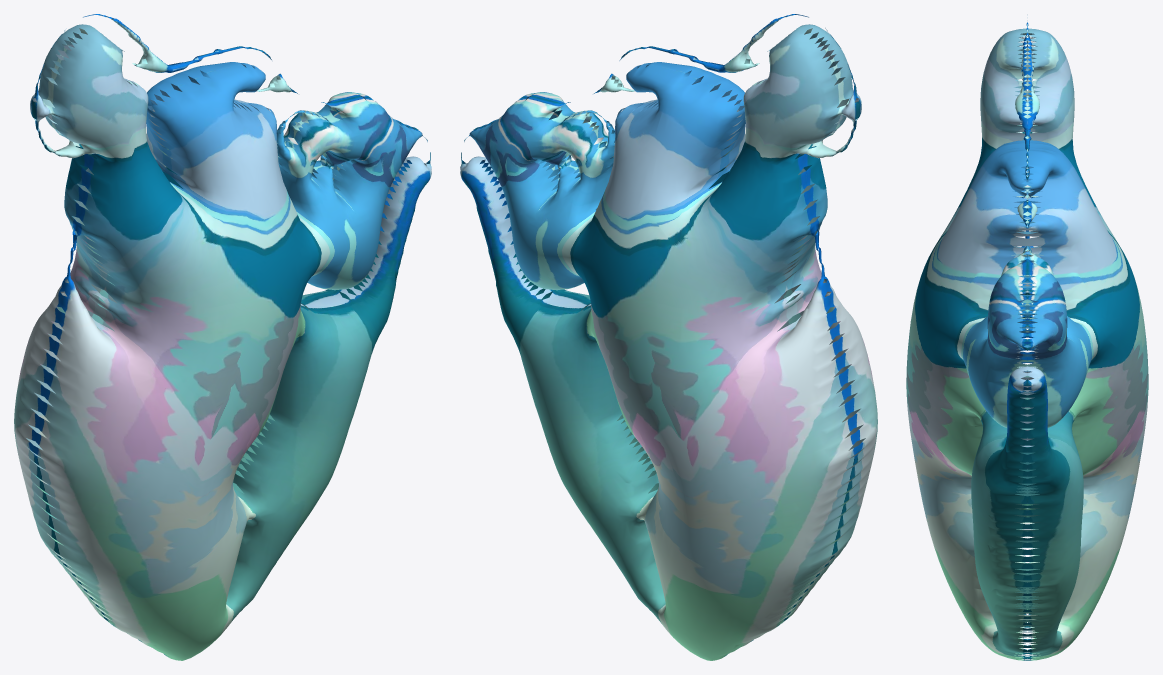
The model's file is capped_ice_spire.glb.
3 renders of one model, left to right at view 1: azimuth 30°, elevation 25°; view 2: azimuth 150°, elevation 25°; view 3: azimuth 270°, elevation 25°, orthographic. The views are drawn at different scales.
Parts seen in each view (by area): view 1: capped_ice_spire; view 2: capped_ice_spire; view 3: capped_ice_spire.
Part boxes in pixels (<box>): capped_ice_spire: <box>14,14,431,660</box>; capped_ice_spire: <box>460,14,877,660</box>; capped_ice_spire: <box>906,22,1148,660</box>.
Size of the model in its own units: 0.9846 by 1.56 by 0.5662.
1 material, 1 textured.
